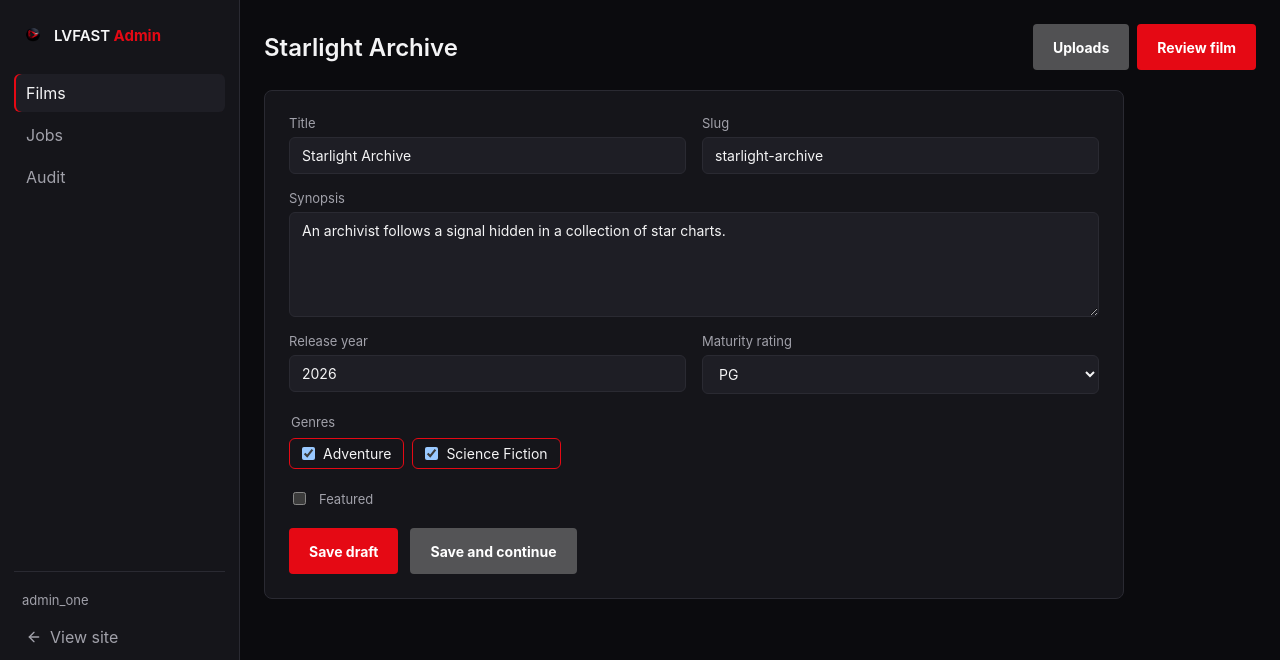
Scenario: Movie editor › keeps unsaved input after a conflict and reloads the latest after confirmation
Replace the text in the field labelled "Title" with "My unsaved title". click: (488, 156)
box: 289,137 -> 686,174
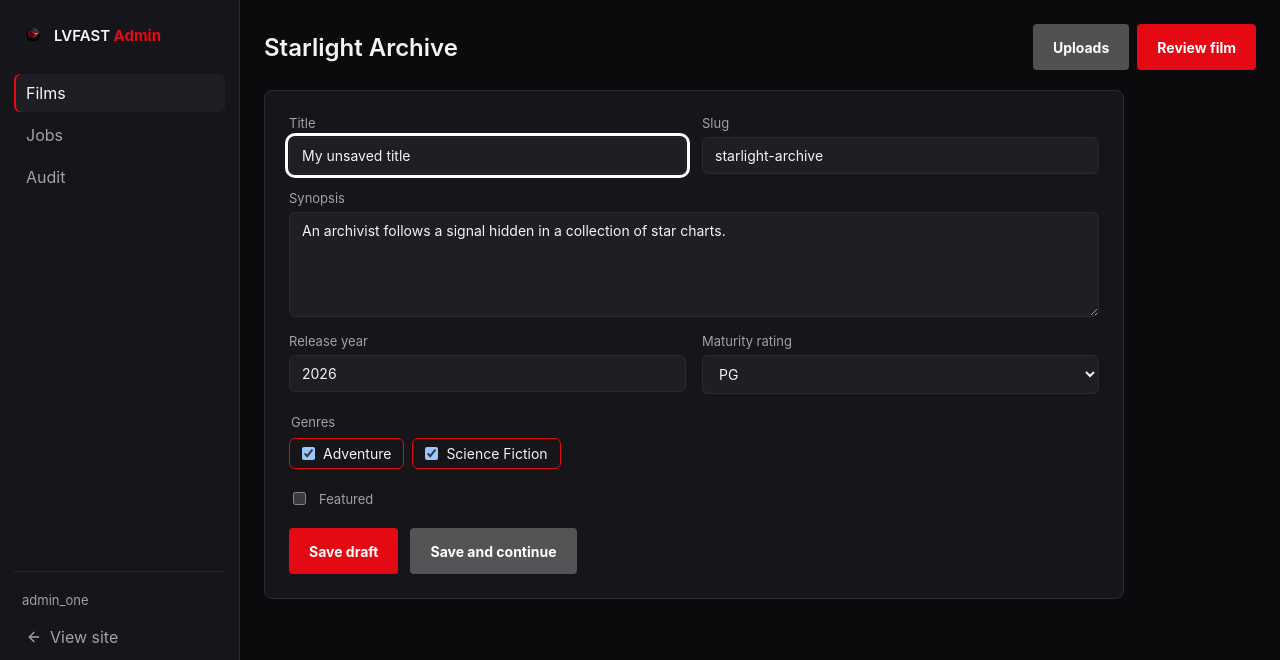
Click the button "Save and continue". click: click(494, 551)
box: 410,528 -> 577,574
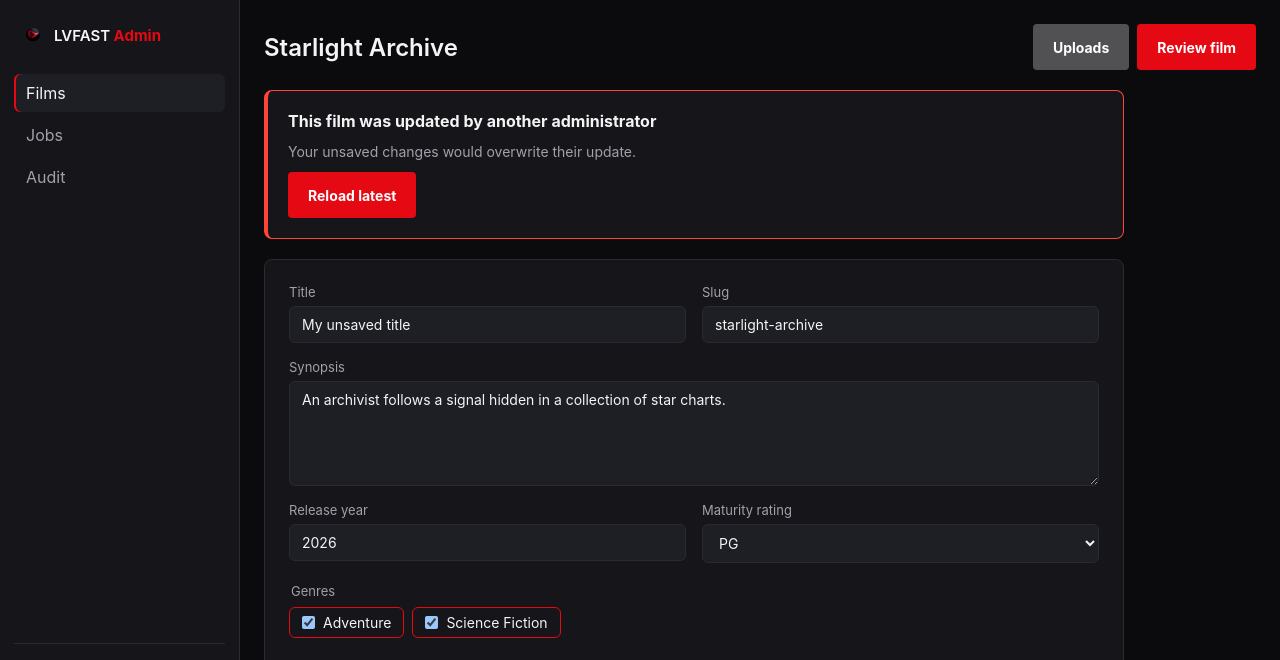
Expected: the message shows "This film was updated by another administrator", 288,111 -> 656,131
Click the button "Reload latest". click: click(352, 195)
box: 288,172 -> 416,218
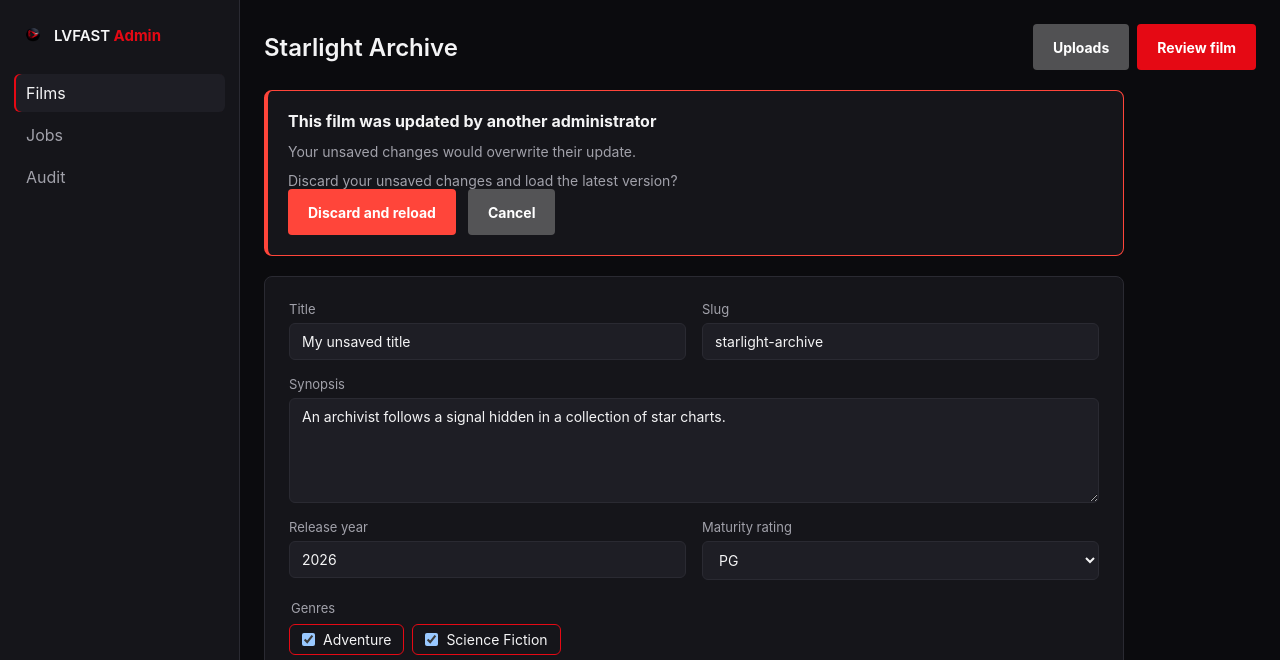
Click the button "Discard and reload". click: click(372, 212)
box: 288,189 -> 456,235
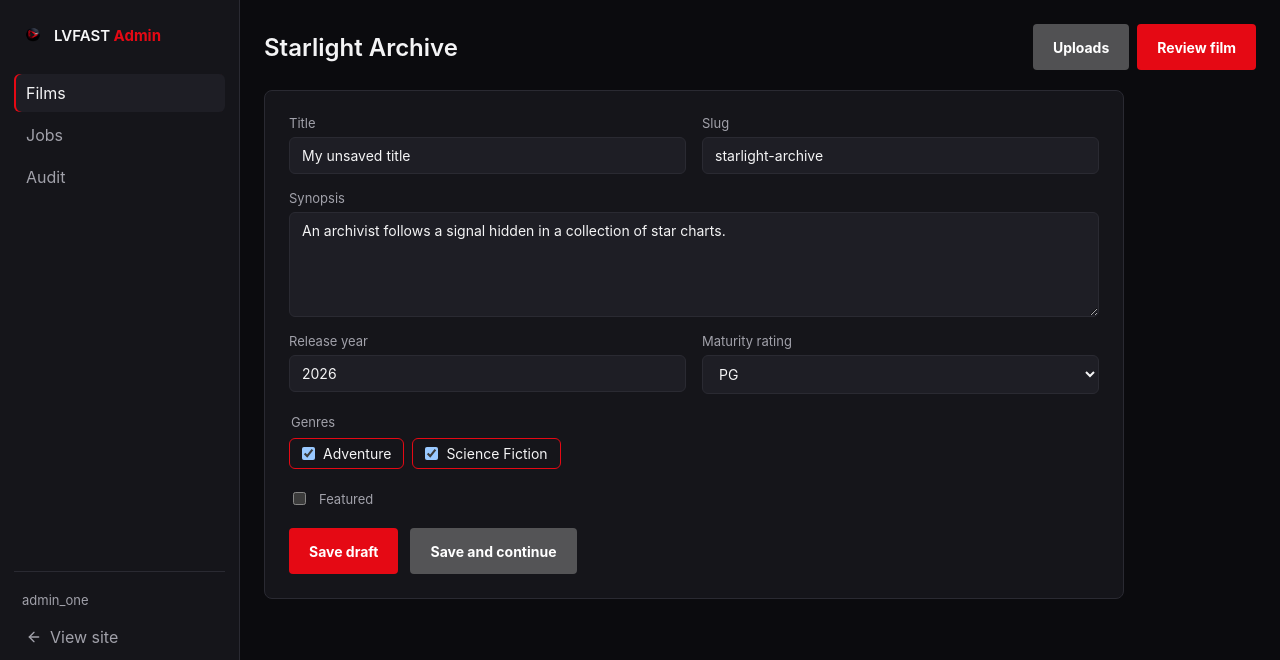
Expected: the message is gone
